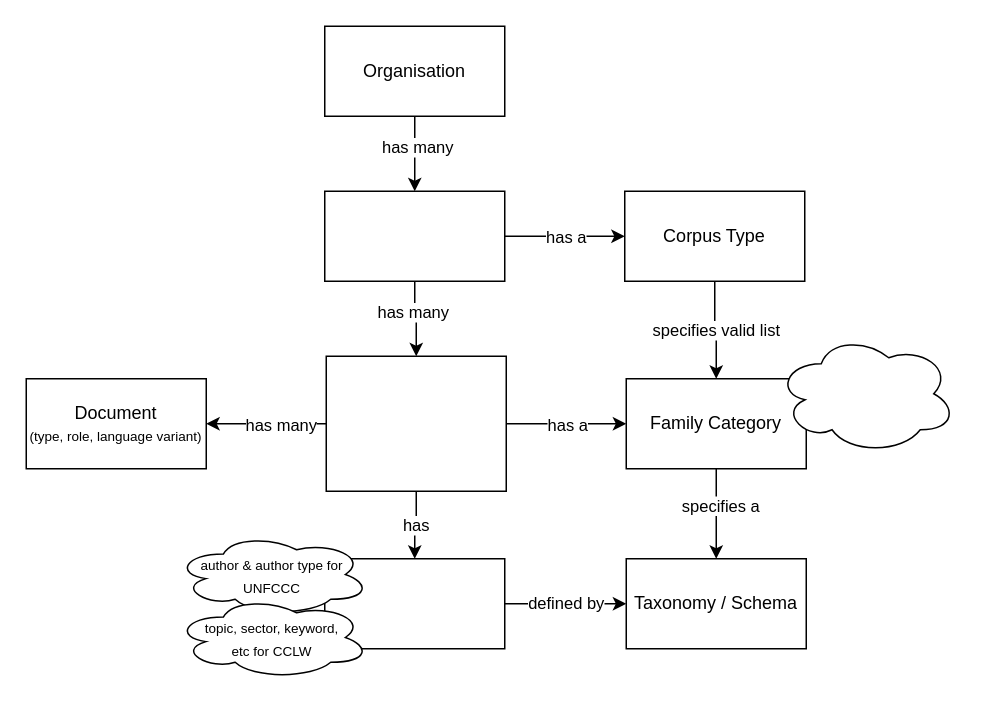
The diagram is 983 pixels wide and 705 high, and some of its shapes have lost their labels. Each missing label, with the box of its shape:
can have sub-categories: (775, 332, 956, 454)
Corpus: (323, 190, 505, 281)
Family: (325, 355, 506, 491)
Metadata: (323, 557, 505, 649)
